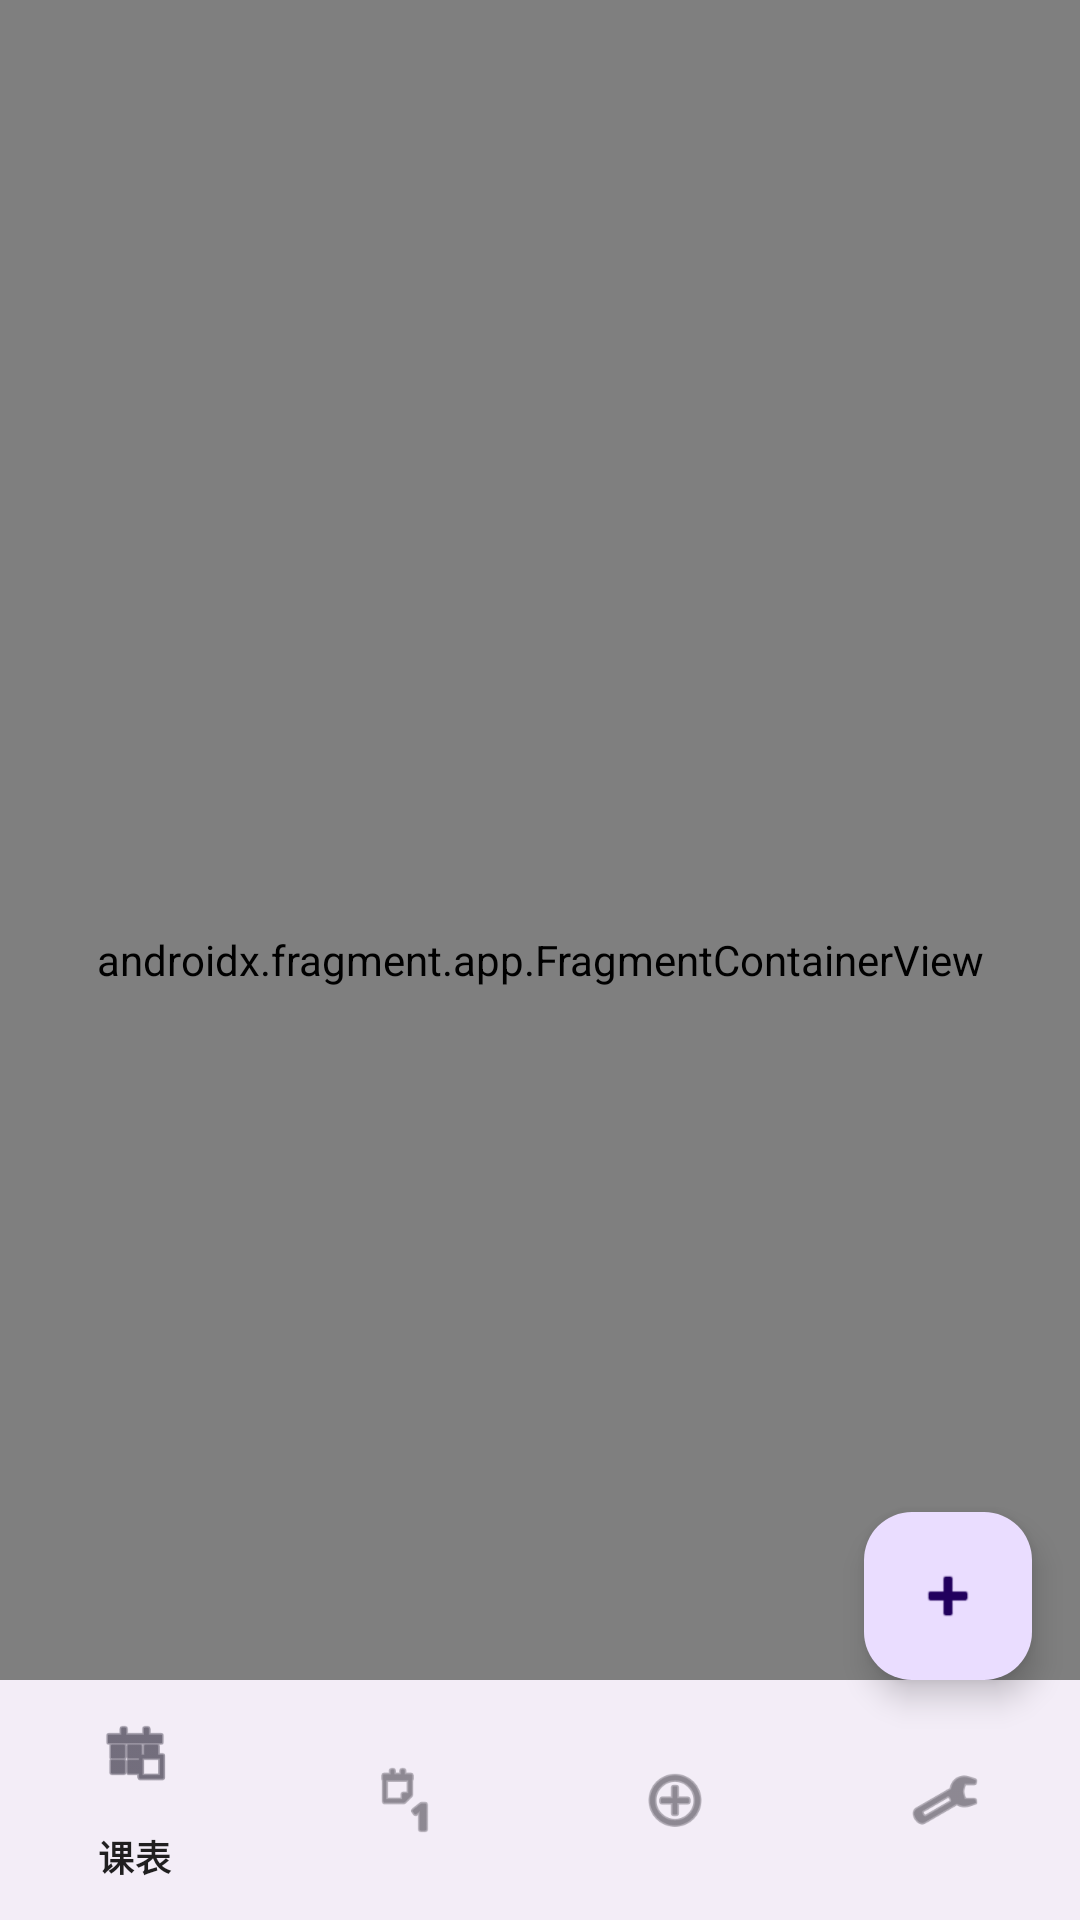

Where icons sit on this 1080w x 1920h app screen, as (x1, y1, x2, y2):
添加课程: (864, 1512, 1032, 1680)
